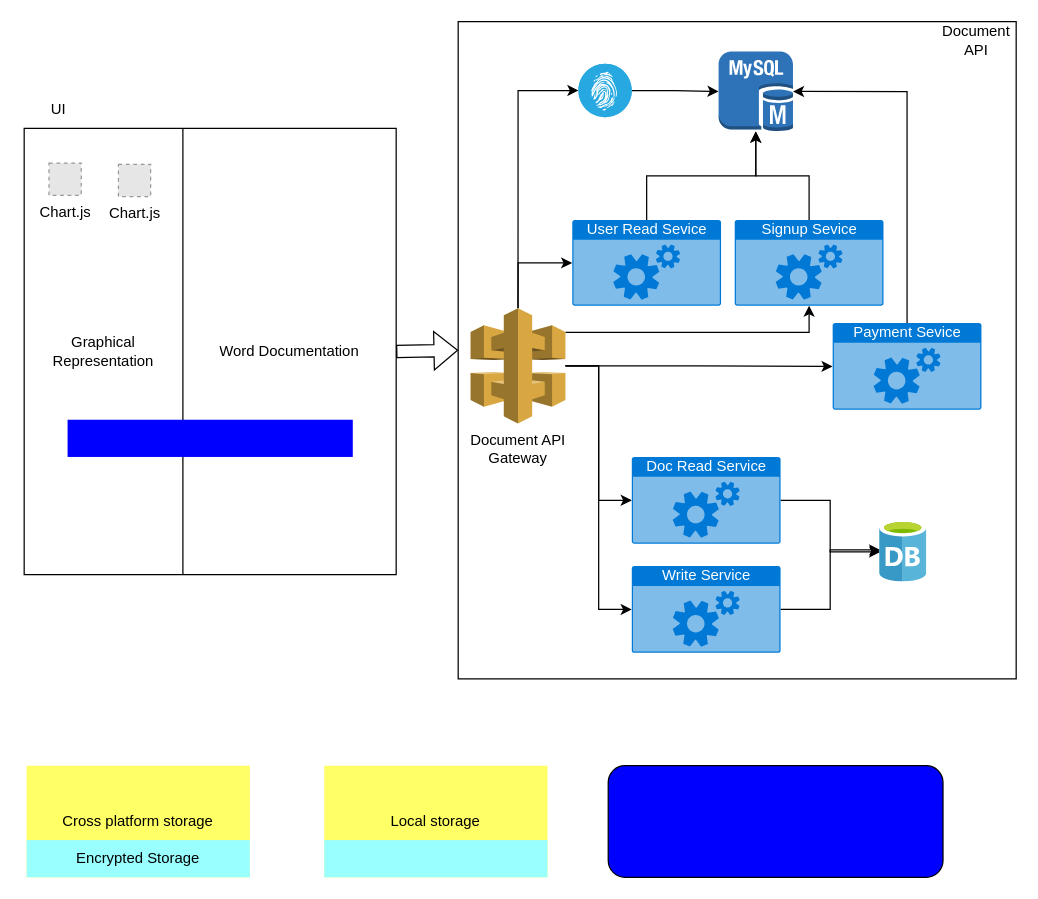
The diagram is 1038 pixels wide and 899 high, and some of its shapes have lost their labels. Grey dashed boxes stand in for pictures. The shapes that lost their labels are listed below. From the top down, each one's centre as x and y in pixels, then its label:
At (604,90): "Authentication / Authorization Service".
At (209,437): "Animated Entity diagram type grap view".
At (902,551): "Mongo DB".
At (775,820): "Phase 1 - Local Storage".
At (435,858): "Encrypted Format File".
